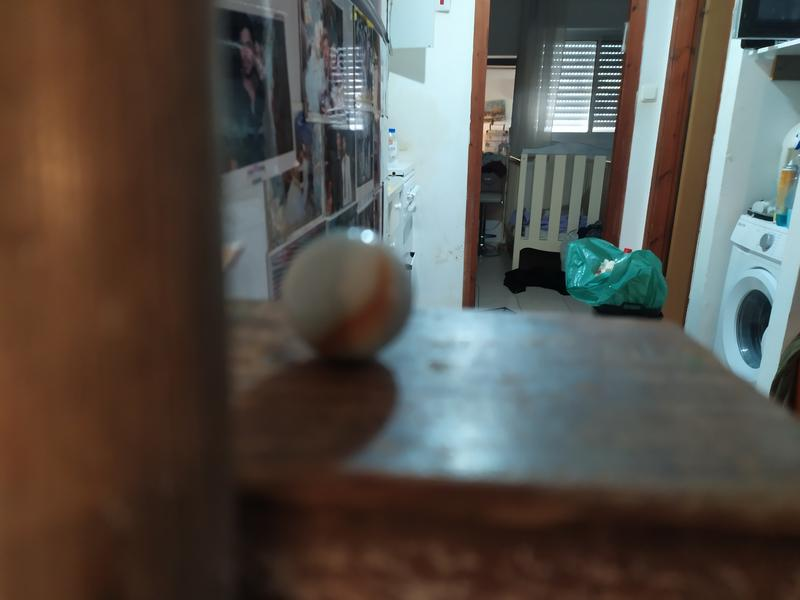Warning: (276, 222, 420, 364)
